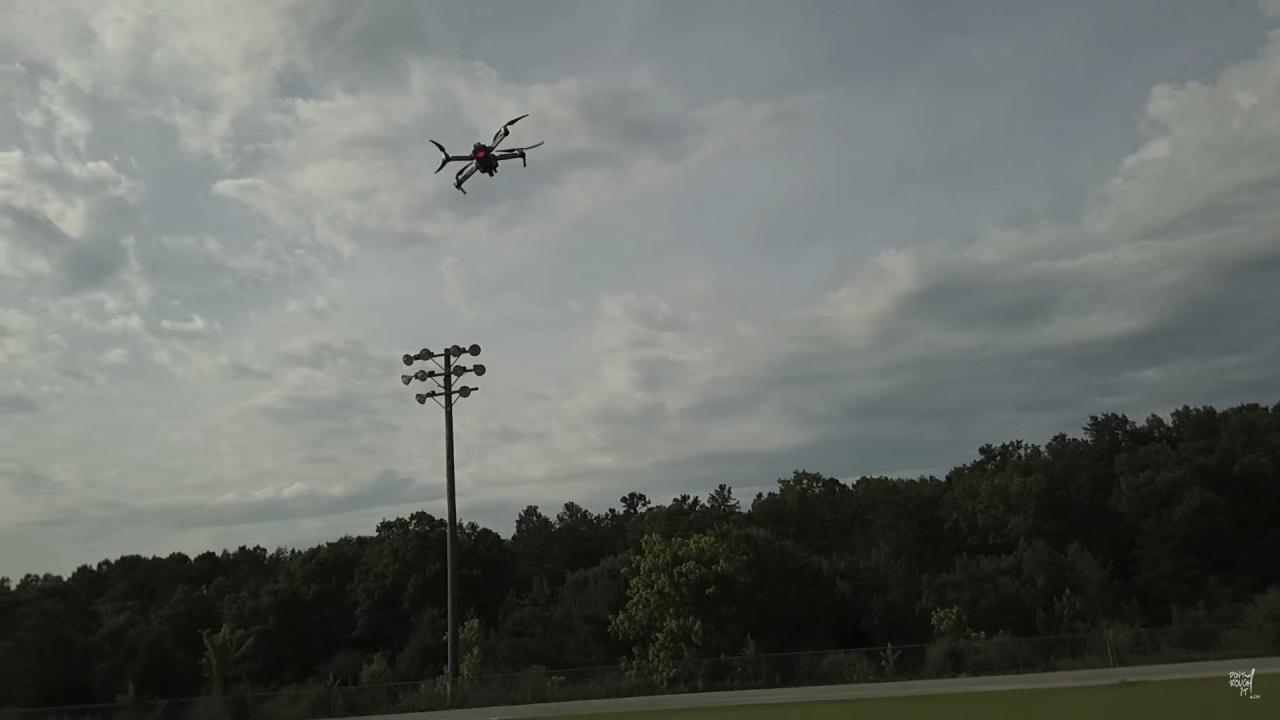Drone: (417, 102, 556, 208)
